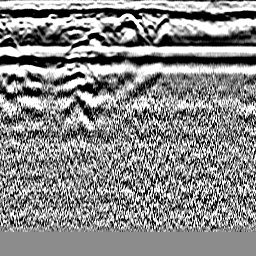cavity: (115, 9, 138, 27)
